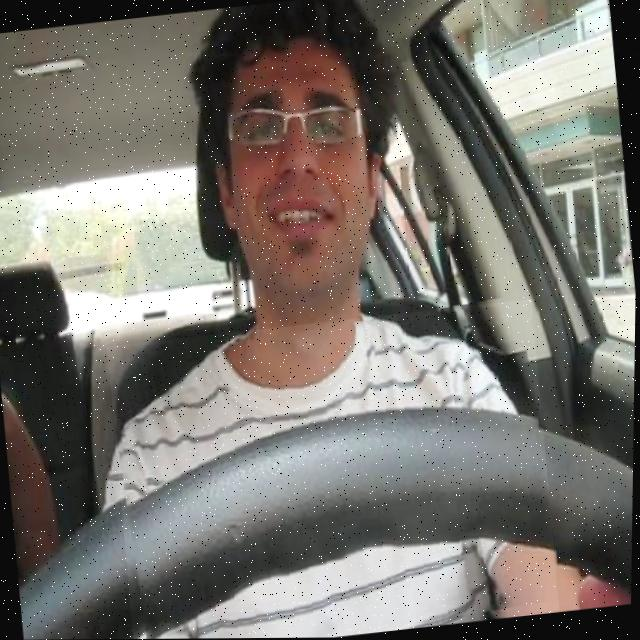no-seatbelt: (103, 298, 563, 639)
